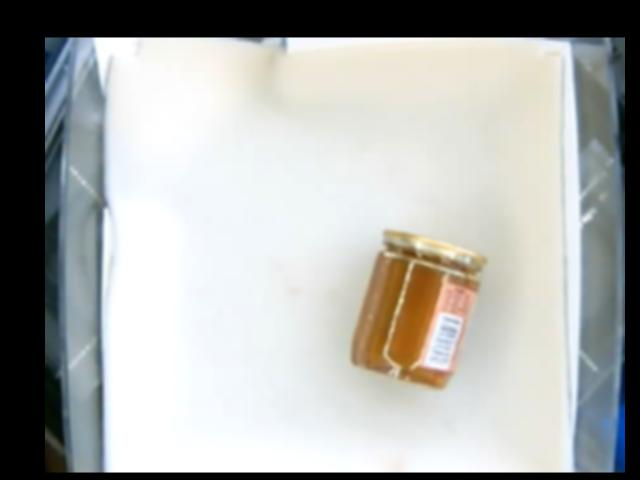Bottle: (350, 232, 489, 388)
